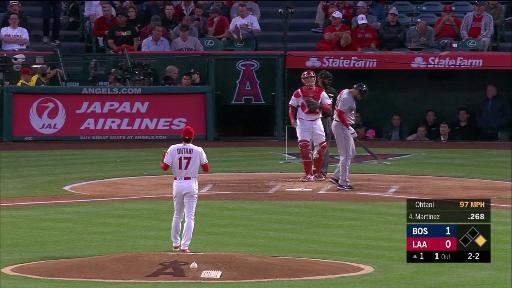pitcher: (160, 125, 210, 254)
